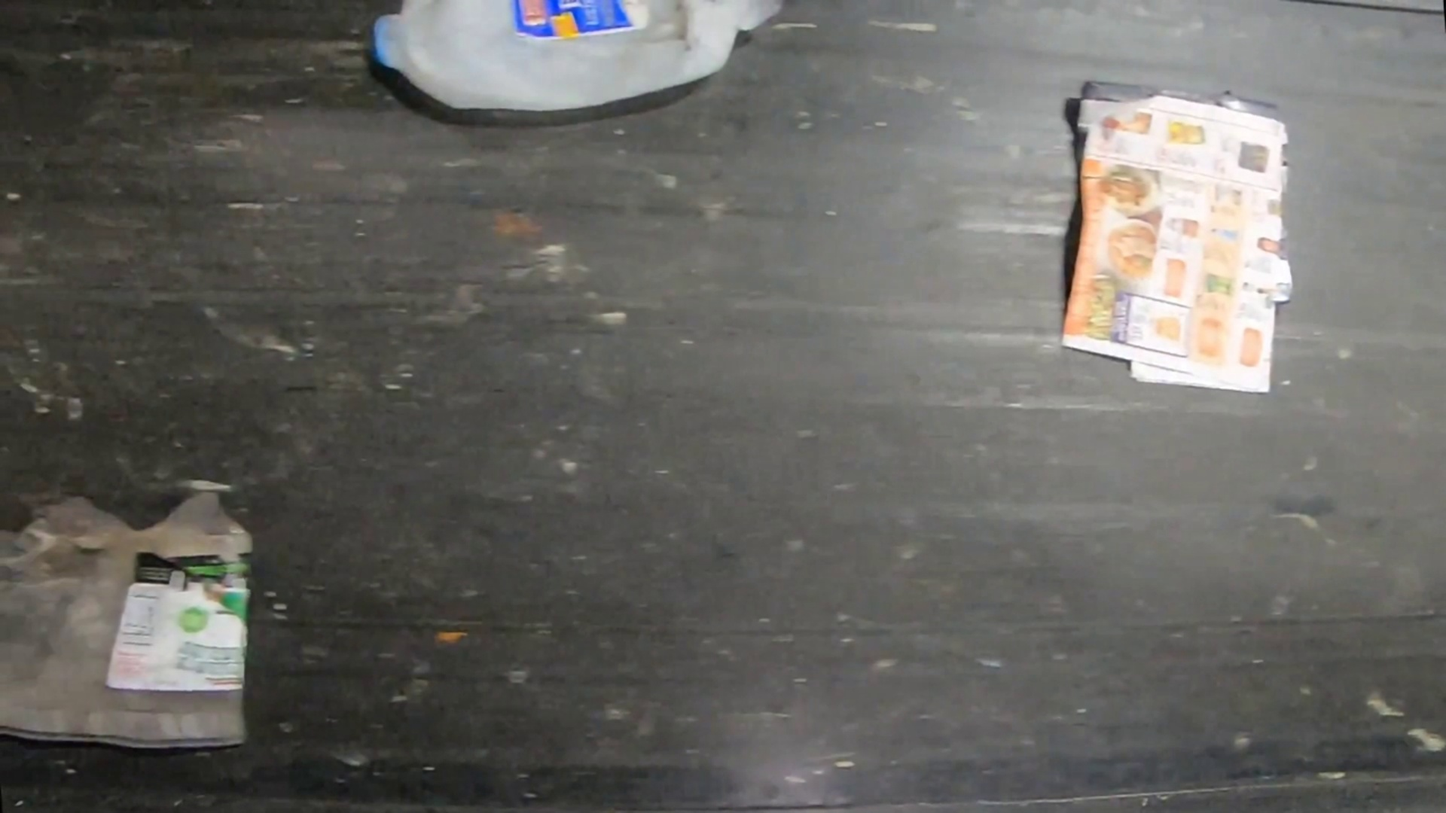plastic: (1, 490, 253, 750), (372, 0, 785, 112)
